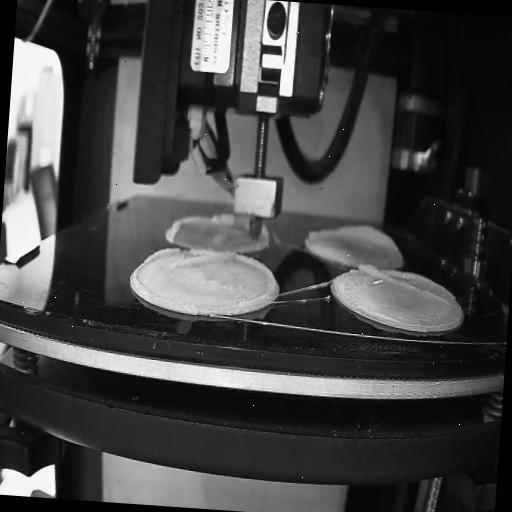over_extrusion: (355, 260, 449, 306), (306, 218, 400, 254), (142, 245, 236, 274), (233, 253, 279, 310), (208, 214, 248, 230)
